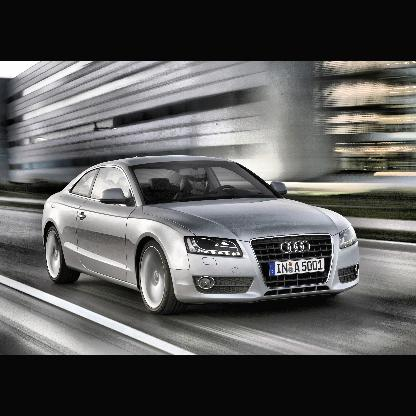Audi A5 Coupe 2012: (42, 153, 363, 313)
